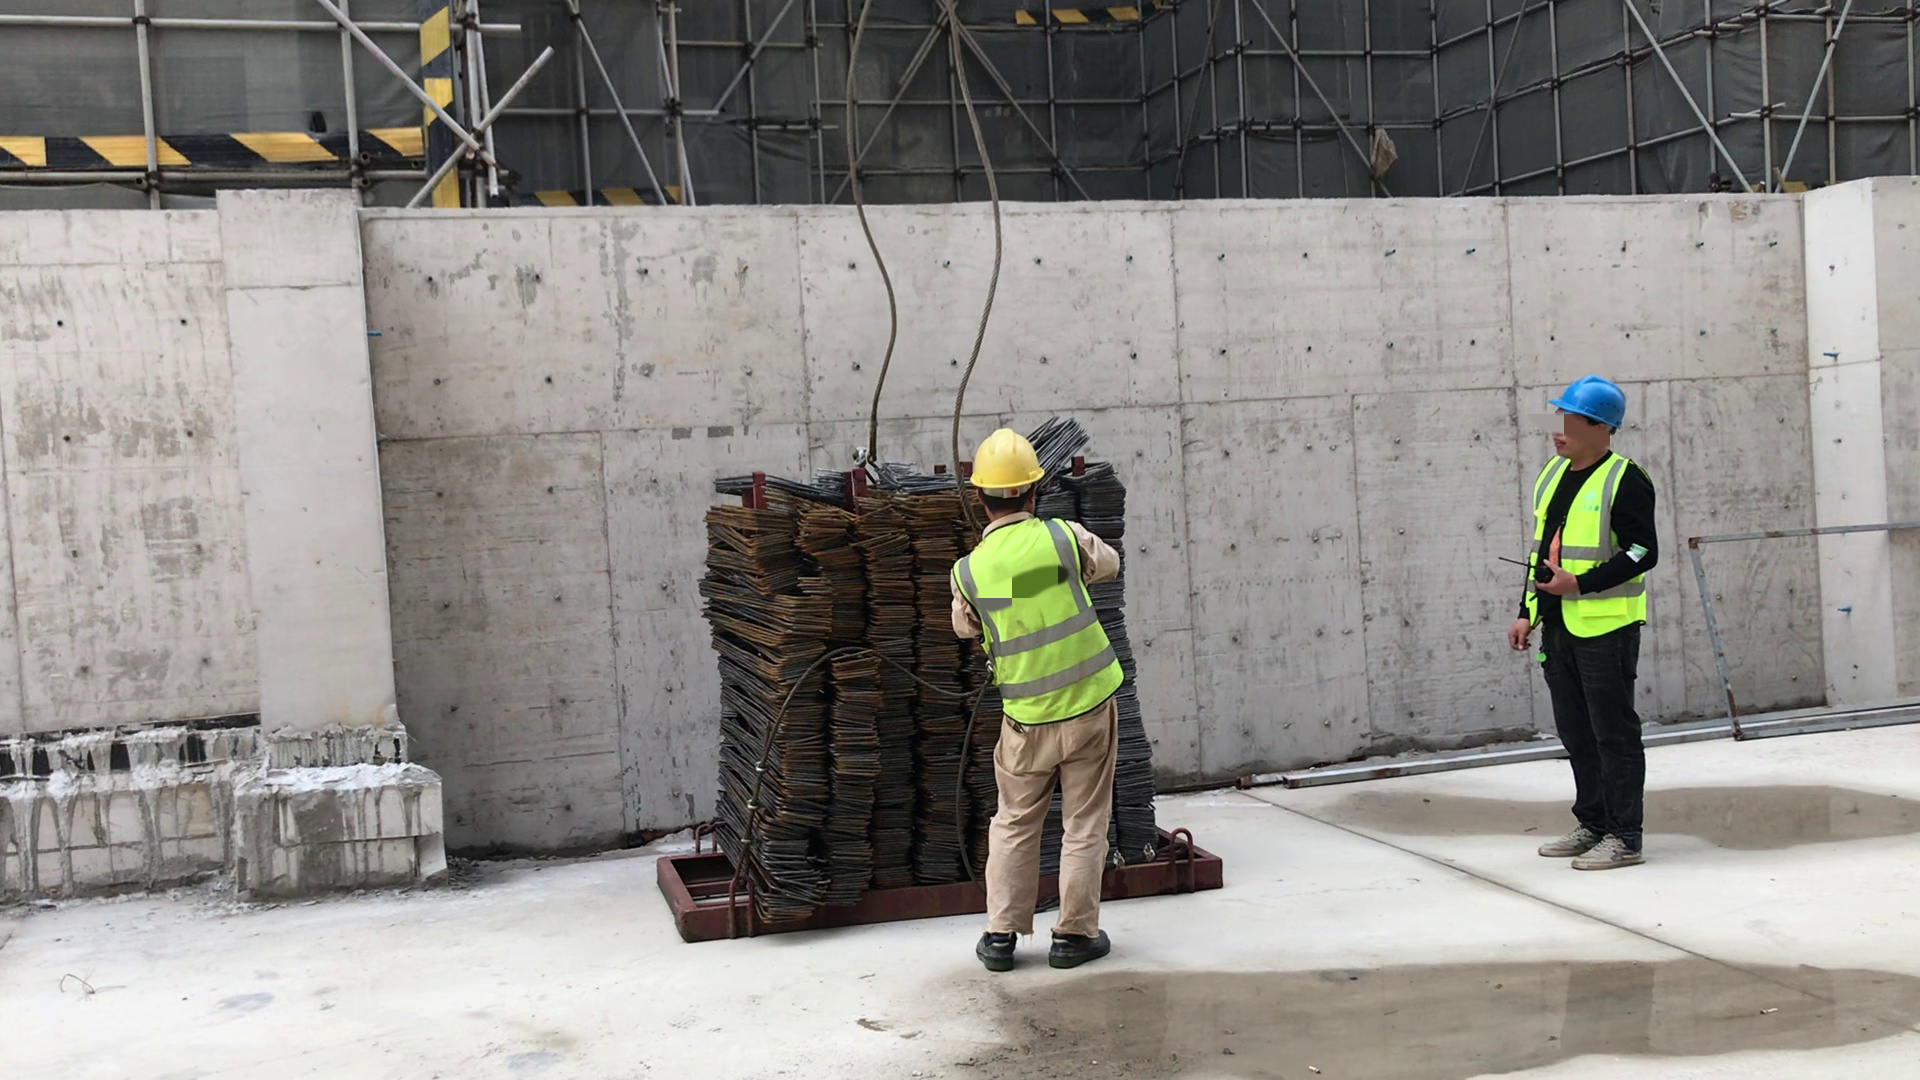helmet: (1543, 358, 1652, 427), (964, 426, 1050, 494)
person: (948, 436, 1148, 979), (1520, 361, 1681, 912)
vest: (968, 533, 1135, 706), (1529, 458, 1654, 628)
